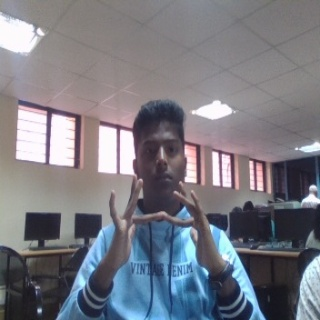Internet: (104, 174, 217, 273)
